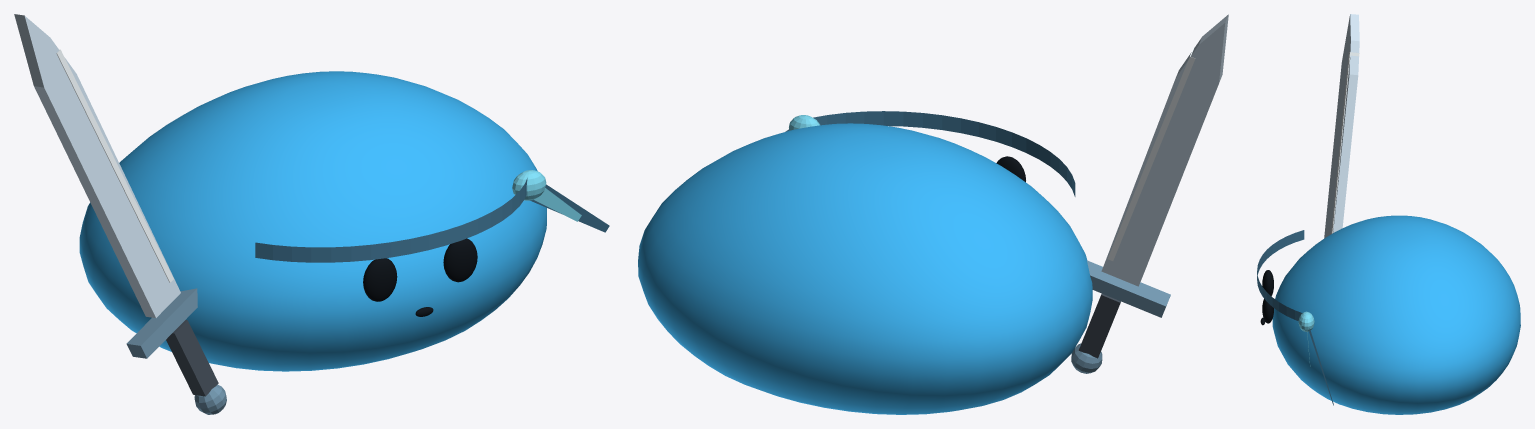
File: blademaster-slime.glb
3 views of the same model, side by side, from view 1: azimuth 30°, elevation 25°; view 2: azimuth 150°, elevation 25°; view 3: azimuth 270°, elevation 25° (orthographic). The views are drawn at different scales.
Visible parts, largest first — view 1: Body, Blademaster_Blade, Blademaster_ScarfBand, Blademaster_Guard, Blademaster_Grip, Blademaster_EdgeAccent, Eye_L, Eye_R, Blademaster_ScarfKnot, Blademaster_Pommel, Blademaster_ScarfTail_Long, Blademaster_ScarfTail_Short; view 2: Body, Blademaster_Blade, Blademaster_ScarfBand, Blademaster_Guard, Blademaster_EdgeAccent, Blademaster_Grip, Blademaster_Pommel; view 3: Body, Blademaster_Blade, Blademaster_ScarfBand, Blademaster_EdgeAccent, Blademaster_ScarfKnot.
Boxes of the visible parts, box(x1,y1,x2,y2) form: Body: box(79, 71, 546, 371); Blademaster_Blade: box(14, 14, 180, 317); Blademaster_ScarfBand: box(255, 178, 527, 262); Blademaster_Guard: box(126, 288, 197, 358); Blademaster_Grip: box(166, 320, 218, 396); Blademaster_EdgeAccent: box(56, 49, 173, 282); Eye_L: box(363, 258, 397, 301); Eye_R: box(443, 238, 477, 282); Blademaster_ScarfKnot: box(512, 170, 546, 200); Blademaster_Pommel: box(194, 384, 226, 414); Blademaster_ScarfTail_Long: box(530, 184, 609, 232); Blademaster_ScarfTail_Short: box(534, 188, 581, 221); Body: box(638, 123, 1092, 414); Blademaster_Blade: box(1101, 14, 1228, 286); Blademaster_ScarfBand: box(813, 111, 1075, 196); Blademaster_Guard: box(1087, 260, 1170, 317); Blademaster_EdgeAccent: box(1107, 47, 1195, 260); Blademaster_Grip: box(1078, 293, 1120, 358); Blademaster_Pommel: box(1071, 343, 1102, 373); Body: box(1272, 215, 1520, 414); Blademaster_Blade: box(1324, 14, 1359, 238); Blademaster_ScarfBand: box(1257, 230, 1304, 320); Blademaster_EdgeAccent: box(1331, 52, 1359, 234); Blademaster_ScarfKnot: box(1298, 311, 1314, 331).
Size of the model in its own units: 3.22 by 2.27 by 2.03.
